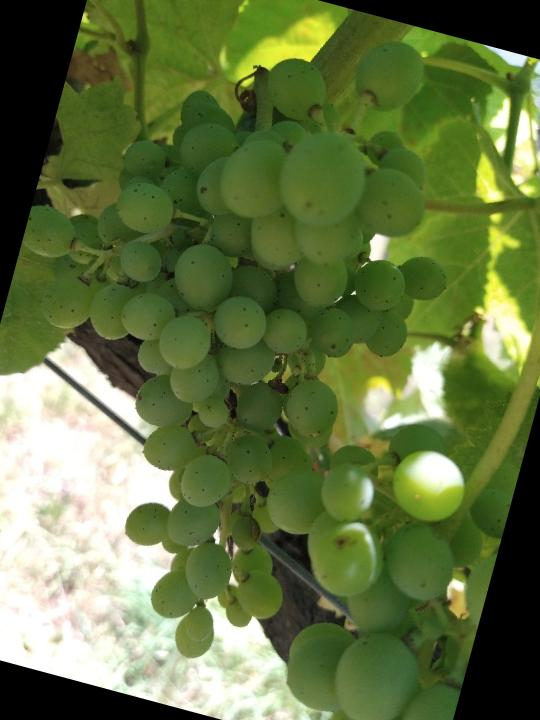grape: (0, 0, 506, 702)
